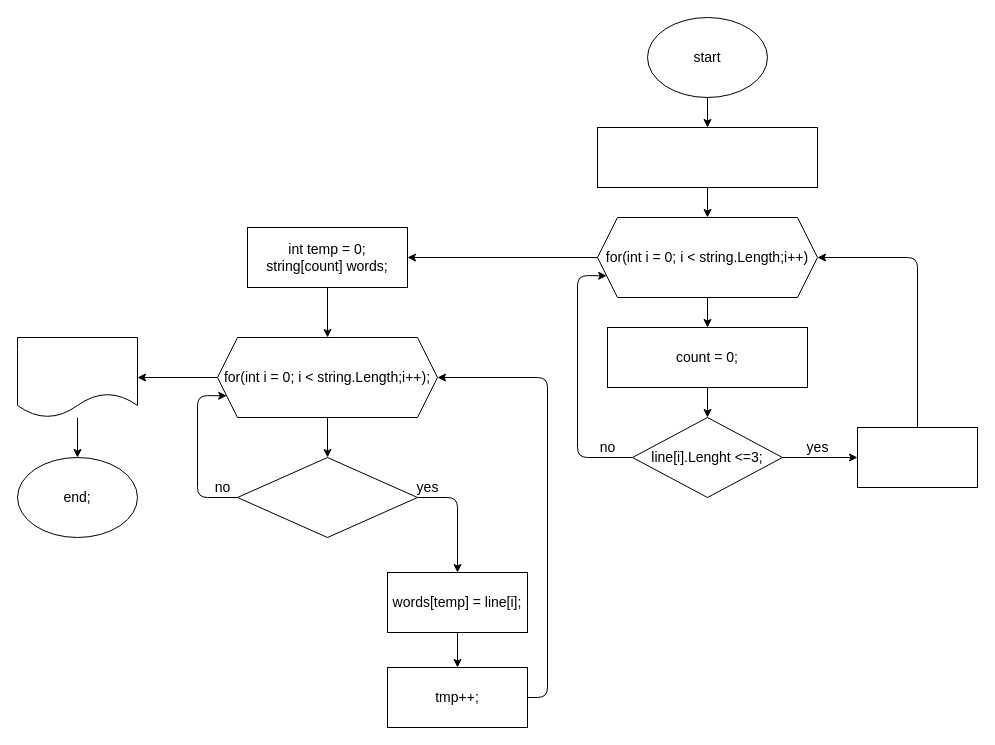
Some shapes in this 995 by 745 pixel diagram are drawn without their labels. Each missing label, with the centre of its shape:
count++;: point 917,457
line[i] <= 3;: point 327,497
print(words);: point 77,377
string["hello","2","world","=-)" ] line;: point 707,157
